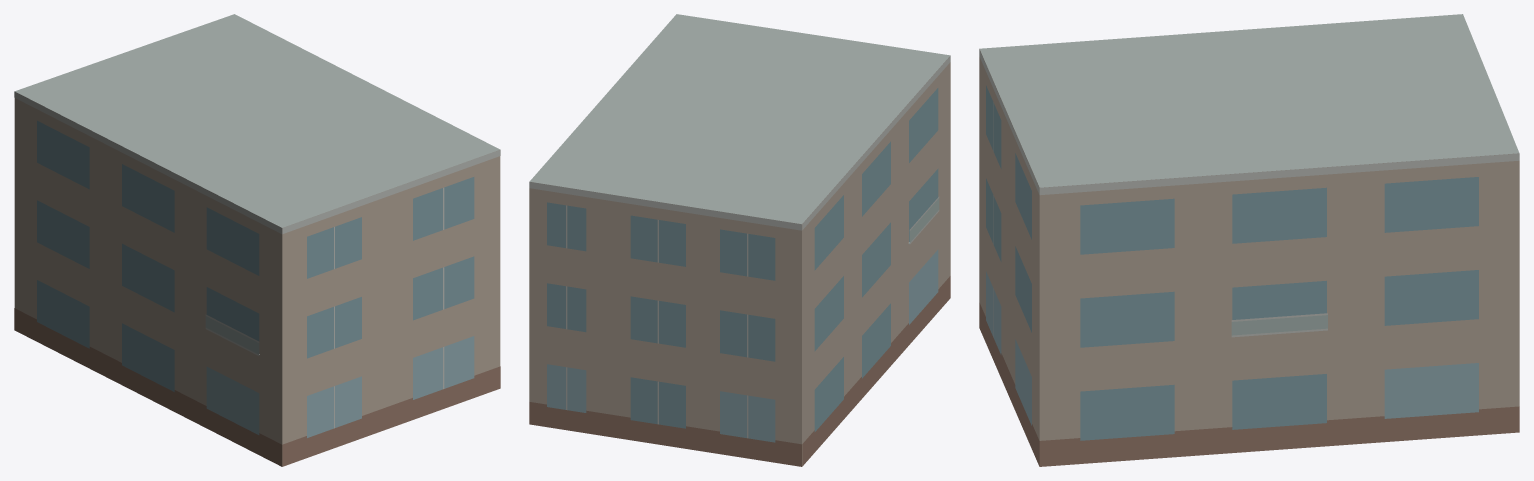
The model's file is survey-upis-32982751.glb.
The picture shows the model from 3 angles, left to right: view 1: azimuth 30°, elevation 25°; view 2: azimuth 150°, elevation 25°; view 3: azimuth 270°, elevation 25°; orthographic projection. The views are drawn at different scales.
Parts seen in each view (by area): view 1: survey-upis-32982751.tmp; view 2: survey-upis-32982751.tmp; view 3: survey-upis-32982751.tmp.
Boxes of the visible parts, x1,y1,x2,y2 form: survey-upis-32982751.tmp: (14,14,500,466); survey-upis-32982751.tmp: (529,14,950,466); survey-upis-32982751.tmp: (979,14,1519,466).
Bounding box in the file's own units: 12.23 × 9.15 × 16.06.
